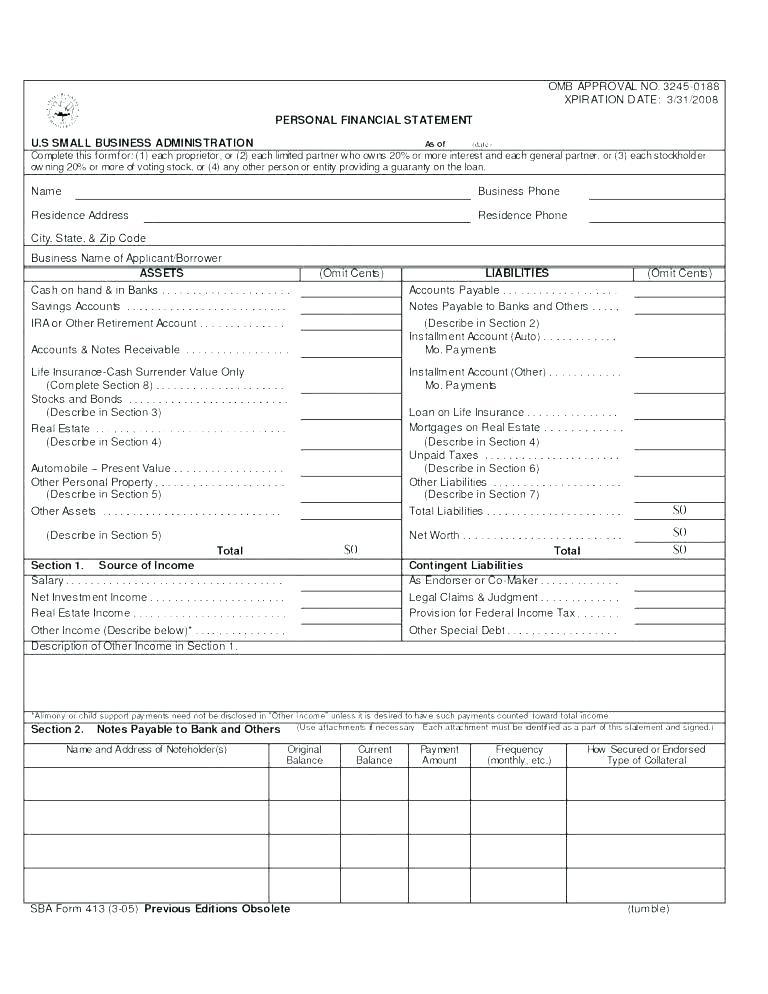textbox: (21, 650, 729, 715), (224, 242, 728, 270), (21, 764, 274, 804), (20, 797, 273, 837), (19, 831, 272, 871), (19, 865, 272, 905), (561, 764, 729, 806), (560, 797, 728, 839), (561, 832, 729, 874), (562, 865, 730, 907), (463, 863, 571, 908), (466, 765, 570, 804), (466, 797, 570, 836), (466, 831, 570, 870), (264, 763, 343, 804), (264, 797, 343, 838), (264, 832, 343, 873), (264, 863, 343, 904), (335, 764, 414, 805), (335, 796, 414, 837), (335, 831, 414, 872), (334, 864, 413, 905), (403, 764, 476, 805), (402, 831, 475, 872), (402, 865, 475, 906), (404, 798, 473, 839)
textline: (144, 226, 727, 251), (71, 180, 474, 203), (137, 203, 473, 225), (580, 180, 730, 201), (580, 204, 730, 225), (293, 279, 403, 300), (293, 297, 403, 318), (294, 313, 404, 334), (293, 339, 403, 360), (293, 377, 403, 398), (294, 402, 404, 423), (294, 432, 404, 453), (294, 459, 404, 480), (294, 485, 404, 506), (295, 501, 405, 522), (293, 574, 404, 594), (293, 591, 404, 611), (294, 607, 405, 627), (293, 623, 404, 643), (628, 280, 727, 300), (629, 297, 728, 317), (628, 341, 727, 361), (628, 377, 727, 397), (629, 405, 728, 425), (629, 432, 728, 452), (628, 460, 727, 480), (629, 485, 728, 505), (627, 501, 726, 521), (627, 525, 726, 545), (305, 541, 404, 561), (629, 542, 728, 562), (628, 574, 727, 594), (629, 592, 728, 612), (629, 608, 728, 628), (628, 624, 727, 644)
